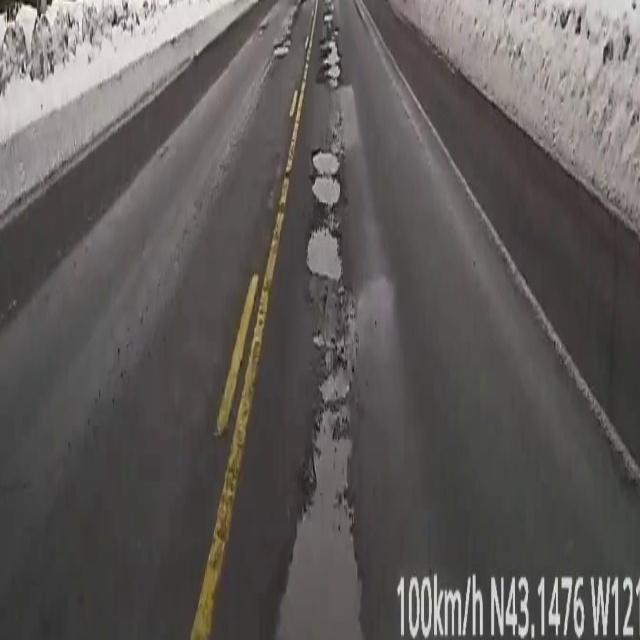pothole: (265, 417, 371, 640), (316, 287, 355, 411), (308, 143, 342, 279), (320, 0, 341, 91), (274, 20, 292, 58)
